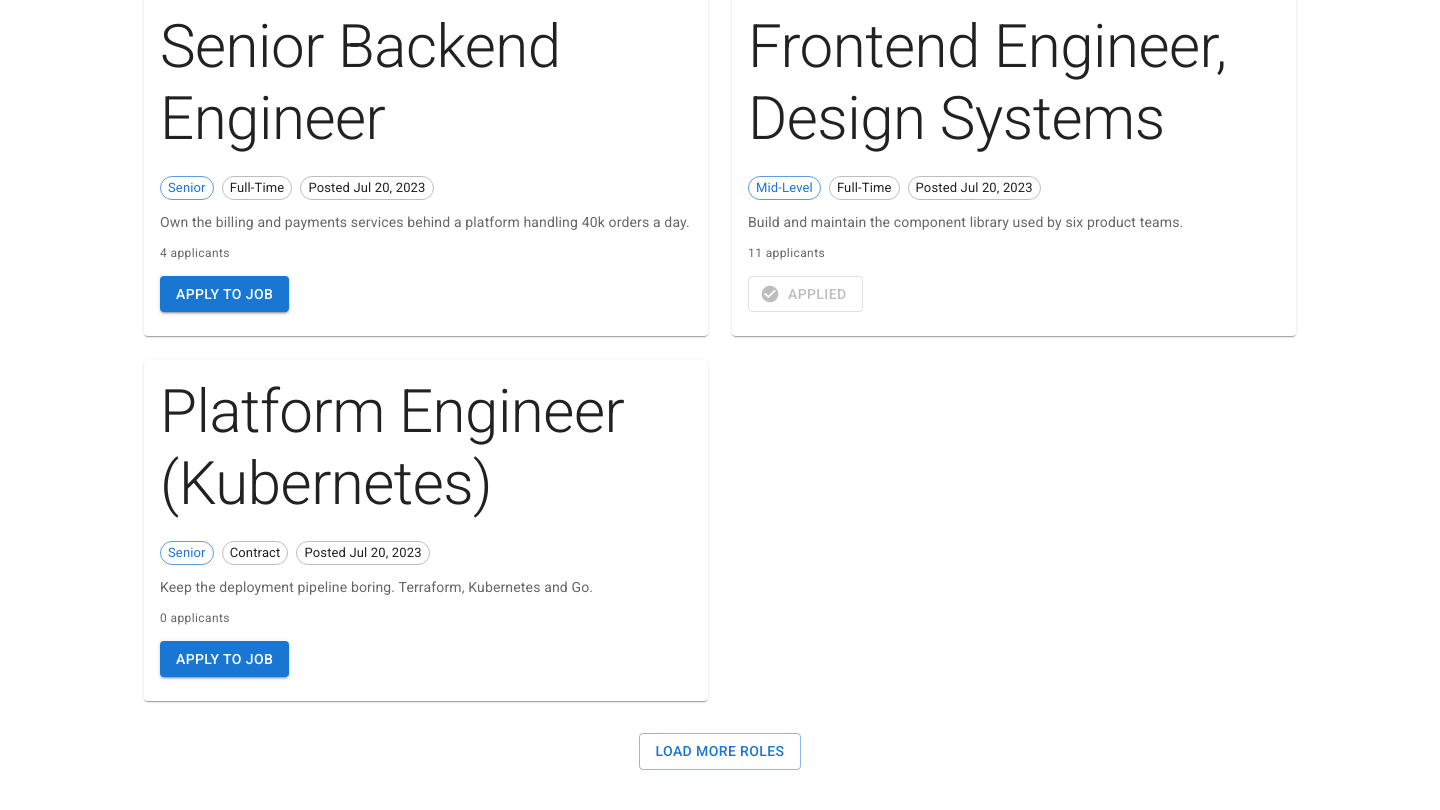
Test: <Jobs /> › loads the next page when there is a cursor
(page scrolled)
Click the button "Load more roles".
click(720, 752)  # box x1=640 y1=734 x2=800 y2=770
(page scrolled)
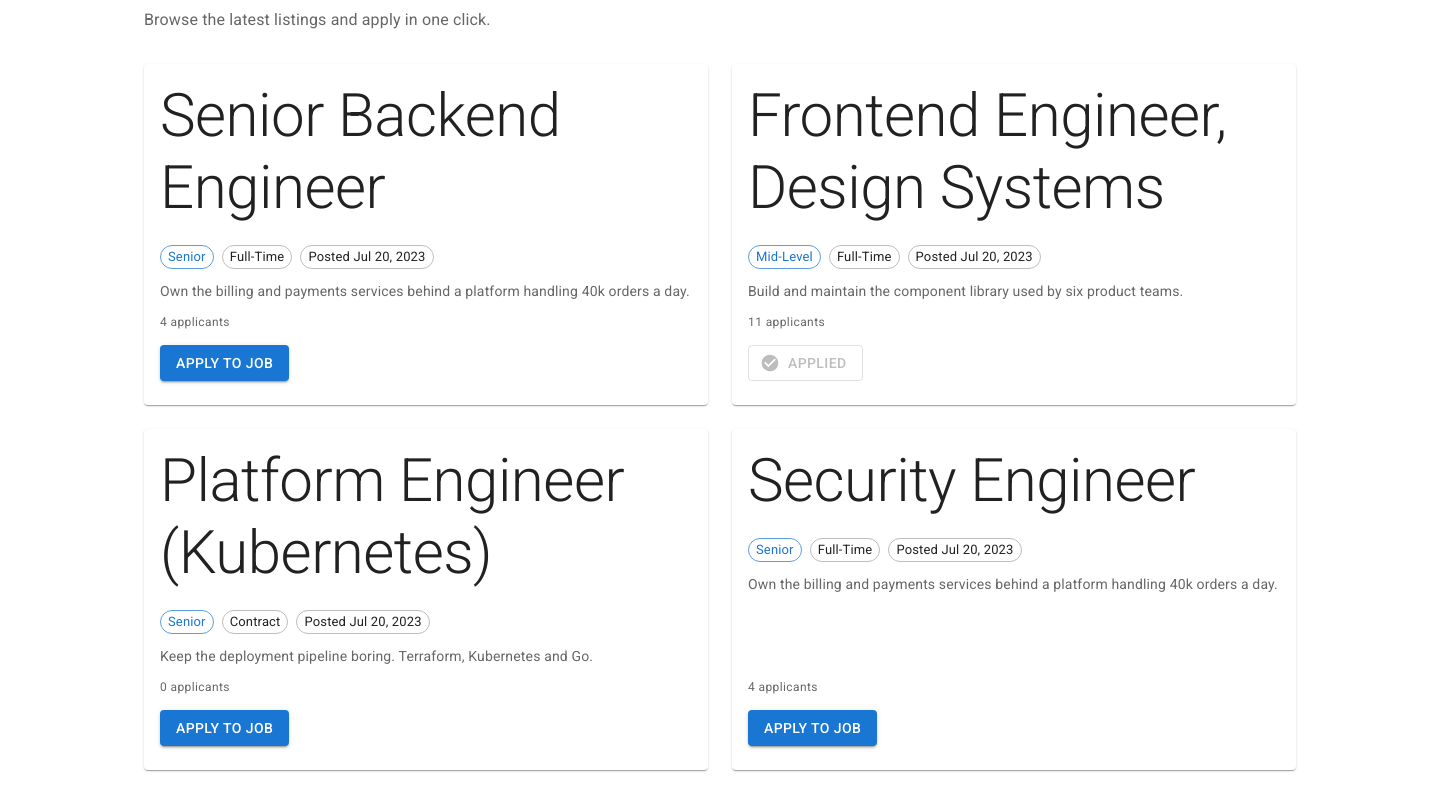
Check: the heading "Security Engineer" is shown, box x1=748 y1=445 x2=1195 y2=516
